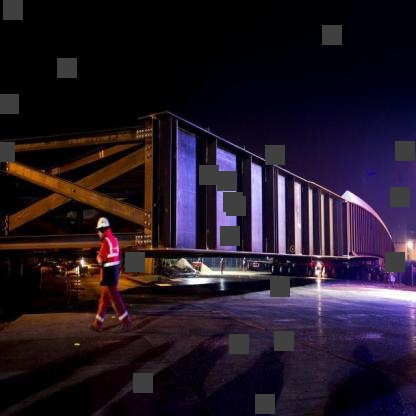vest: (97, 233, 125, 268)
white: (95, 215, 110, 230)
